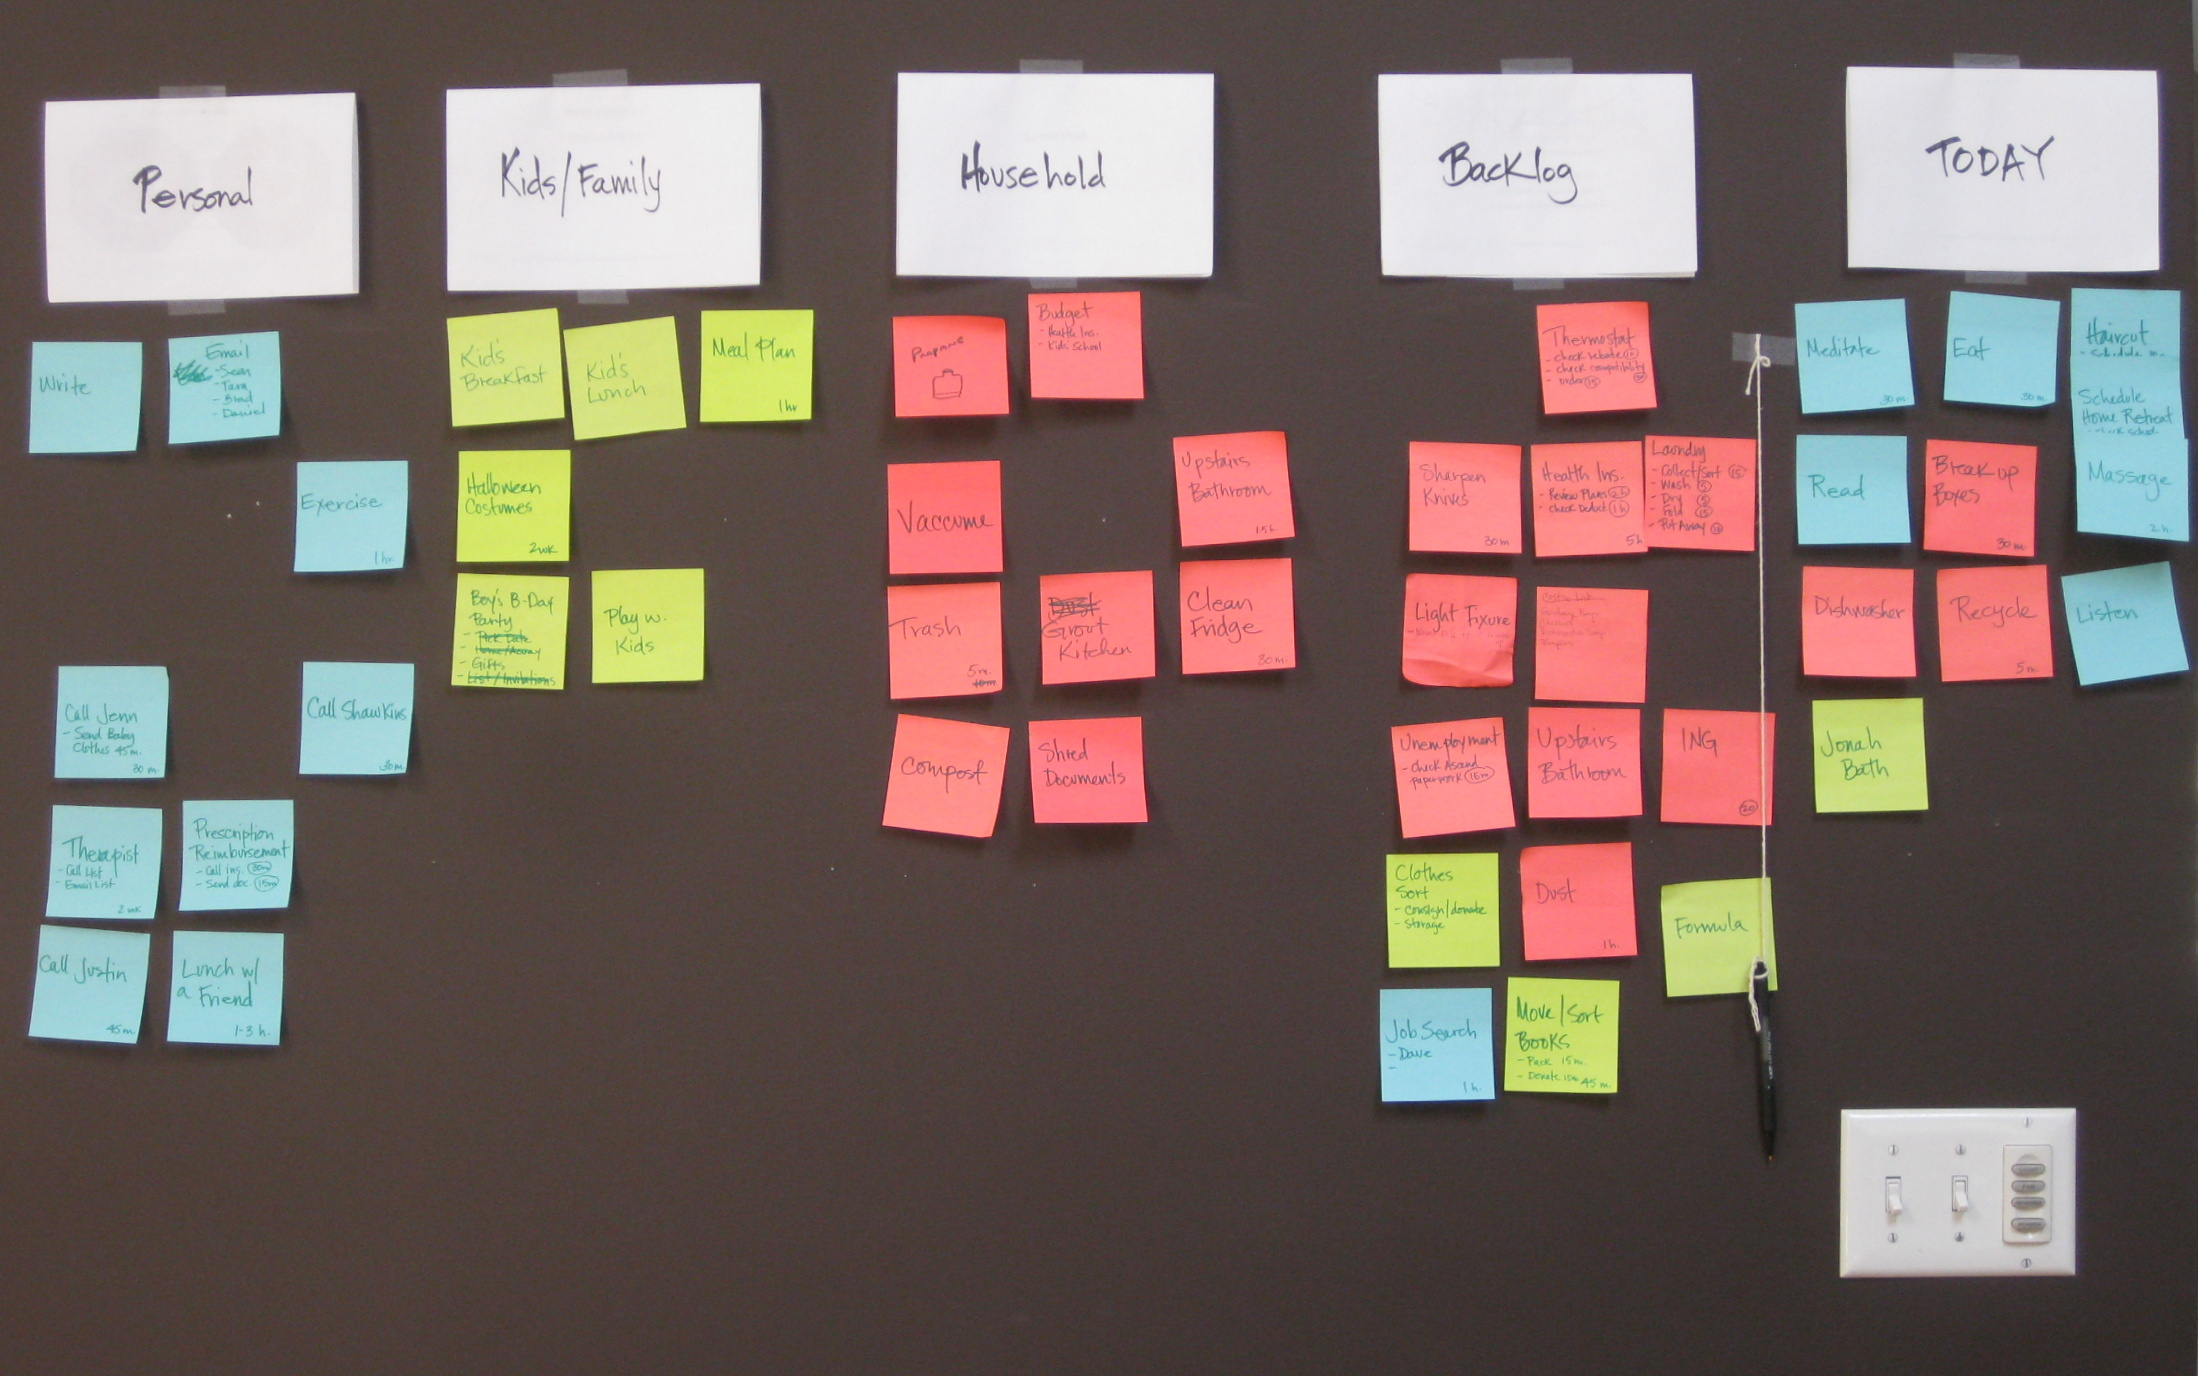stickynote: (1830, 48, 2177, 280), (37, 80, 377, 314), (888, 63, 1230, 297), (1371, 55, 1701, 287), (426, 76, 771, 297), (2069, 282, 2184, 548), (288, 653, 435, 806), (1384, 706, 1522, 855), (284, 455, 433, 587), (1656, 861, 1786, 1008), (1926, 555, 2064, 691), (1173, 546, 1311, 680), (1658, 704, 1790, 844), (33, 793, 167, 931), (1788, 559, 1928, 689), (1371, 985, 1505, 1119), (18, 323, 150, 459), (1394, 568, 1526, 706), (2056, 563, 2194, 695), (881, 708, 1016, 842), (1807, 693, 1947, 819), (1173, 419, 1307, 550), (441, 304, 573, 436), (1788, 291, 1920, 423), (881, 576, 1011, 710), (1528, 576, 1656, 712), (1396, 429, 1528, 561), (167, 929, 301, 1057), (561, 310, 690, 446), (1790, 425, 1922, 555), (167, 323, 301, 450), (1530, 295, 1667, 419), (1647, 423, 1769, 563), (50, 659, 177, 793), (1939, 282, 2067, 416), (1530, 429, 1654, 565), (28, 921, 156, 1053), (692, 302, 824, 429), (879, 455, 1013, 580), (1377, 848, 1509, 974), (1505, 972, 1630, 1104), (884, 306, 1024, 423), (445, 568, 571, 697), (1026, 285, 1150, 416), (1522, 702, 1647, 833), (1513, 836, 1637, 965), (175, 793, 294, 925), (1920, 429, 2039, 565), (1035, 561, 1152, 697), (454, 444, 581, 568), (1024, 708, 1154, 831), (586, 565, 711, 682)
